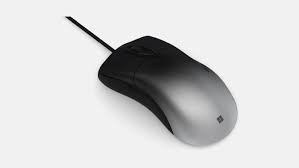mouse: (93, 31, 236, 146)
